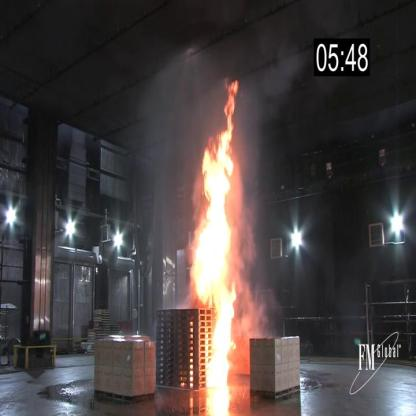fire: (188, 72, 244, 391)
